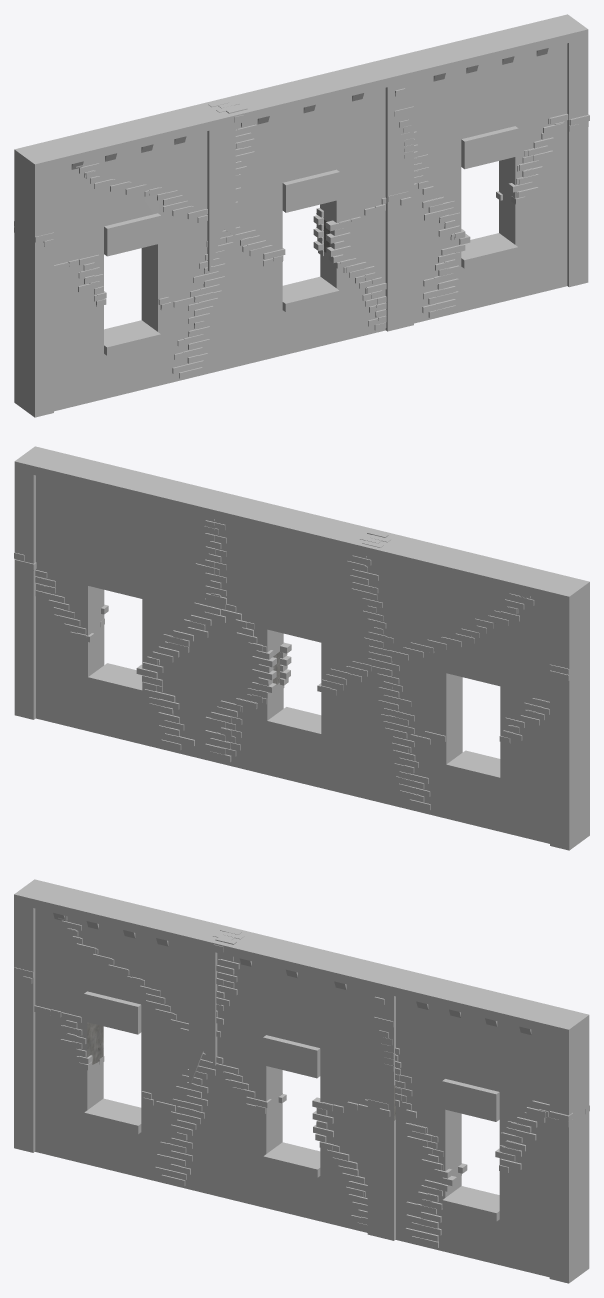
The model's file is Building_Wall_Seg_Shattered.fbx.
3 renders of one model, top to bottom at view 1: azimuth 30°, elevation 25°; view 2: azimuth 150°, elevation 25°; view 3: azimuth 330°, elevation 25°, orthographic.
Visible parts, largest first — view 1: Fragment_03, Fragment_06, Fragment_08, Fragment_04, Fragment_02, Fragment_01, Fragment_05, Fragment_07; view 2: Fragment_03, Fragment_06, Fragment_08, Fragment_04, Fragment_01, Fragment_02, Fragment_07, Fragment_05; view 3: Fragment_03, Fragment_06, Fragment_02, Fragment_08, Fragment_04, Fragment_01, Fragment_05, Fragment_07.
Part boxes in pixels (box(x1,y1,x2,y2)): Fragment_03: box(372, 14, 589, 240); Fragment_06: box(208, 62, 419, 263); Fragment_08: box(14, 220, 213, 417); Fragment_04: box(14, 138, 223, 303); Fragment_02: box(433, 114, 588, 317); Fragment_01: box(183, 229, 386, 379); Fragment_05: box(60, 100, 251, 228); Fragment_07: box(313, 176, 470, 331); Fragment_03: box(14, 446, 228, 671); Fragment_06: box(207, 493, 391, 693); Fragment_08: box(396, 653, 589, 850); Fragment_04: box(380, 569, 589, 744); Fragment_01: box(216, 660, 420, 812); Fragment_02: box(14, 552, 184, 753); Fragment_07: box(136, 593, 291, 763); Fragment_05: box(359, 532, 536, 656); Fragment_03: box(373, 967, 589, 1175); Fragment_06: box(203, 927, 401, 1120); Fragment_02: box(416, 1100, 589, 1283); Fragment_08: box(14, 966, 196, 1184); Fragment_04: box(14, 879, 203, 1111); Fragment_01: box(166, 1052, 367, 1232); Fragment_05: box(58, 890, 235, 1050); Fragment_07: box(312, 1093, 467, 1246).
Bounding box in the file's own units: 5.43 × 2.38 × 0.3803.
